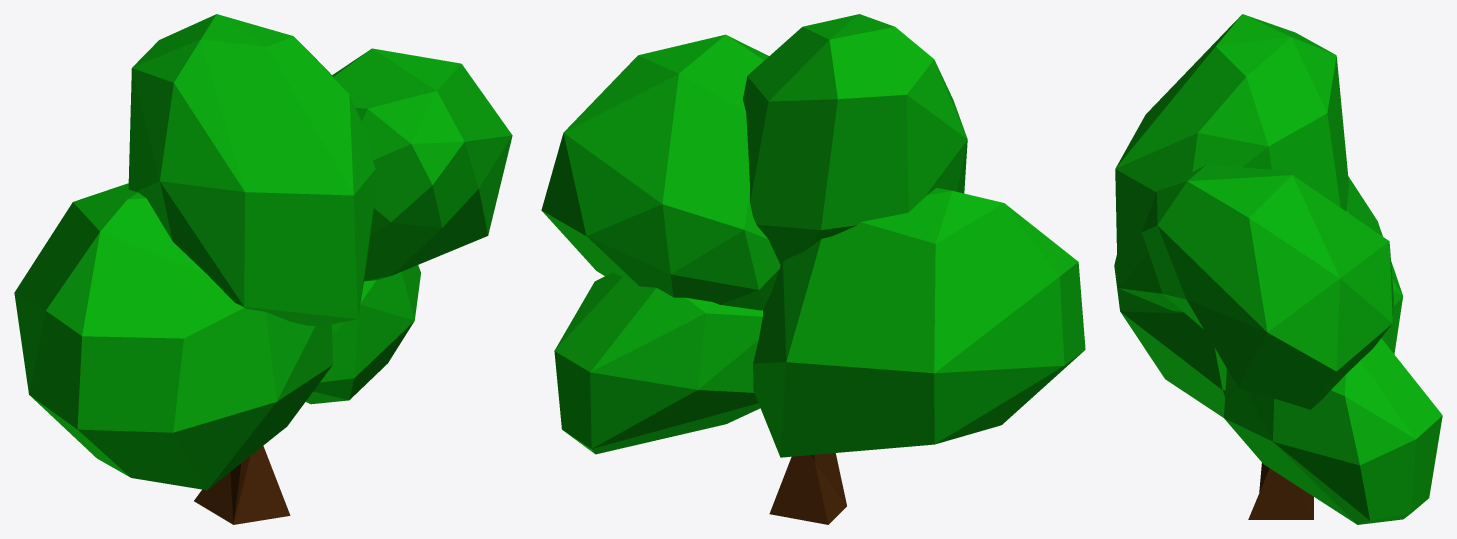
Rendered from U_Klevas.fbx.
3 views of the same model, side by side, from view 1: azimuth 30°, elevation 25°; view 2: azimuth 150°, elevation 25°; view 3: azimuth 270°, elevation 25° (orthographic). The views are drawn at different scales.
Visible parts, largest first — view 1: Klevas; view 2: Klevas; view 3: Klevas.
Part boxes in pixels (bbox=[...]): Klevas: bbox=[14, 14, 512, 524]; Klevas: bbox=[541, 14, 1085, 524]; Klevas: bbox=[1114, 14, 1442, 524].
Size of the model in its own units: 1.16 by 1.11 by 0.7137.
